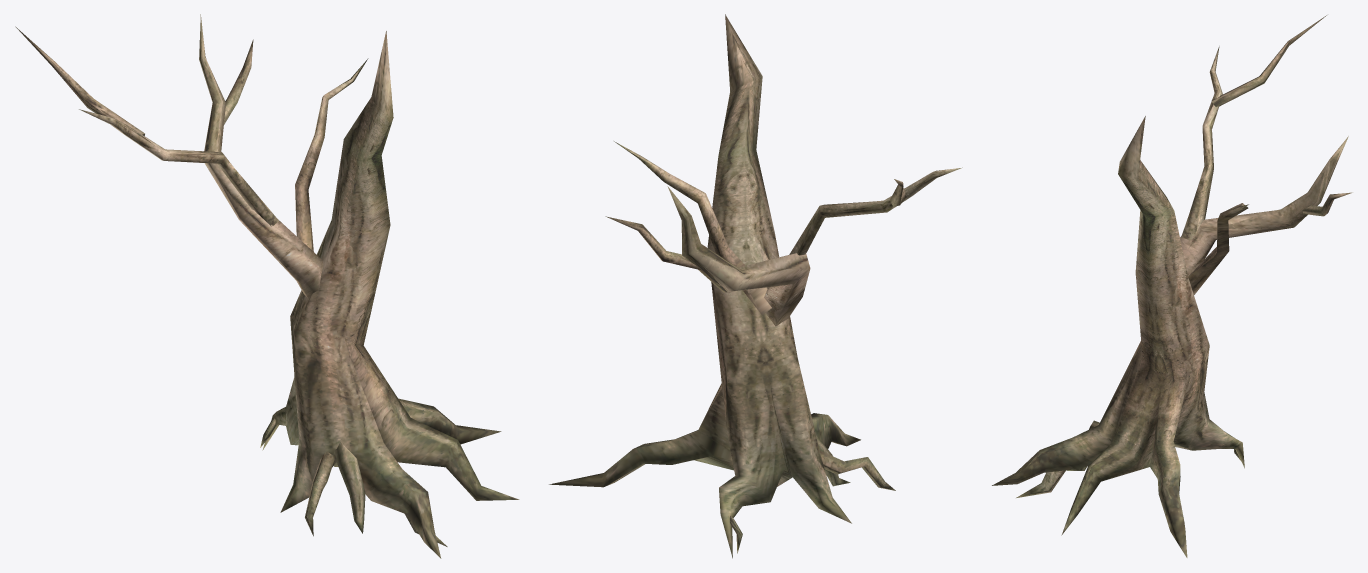
File: shu_01.FBX
The picture shows the model from 3 angles, left to right: view 1: azimuth 30°, elevation 25°; view 2: azimuth 150°, elevation 25°; view 3: azimuth 270°, elevation 25°; orthographic projection. The views are drawn at different scales.
Parts seen in each view (by area): view 1: polySurface25; view 2: polySurface25; view 3: polySurface25.
Boxes of the visible parts, <box> form: polySurface25: <box>15,14,519,558</box>; polySurface25: <box>549,14,962,558</box>; polySurface25: <box>992,15,1352,557</box>.
Size of the model in its own units: 257 by 278 by 235.
1 material, 1 textured.
